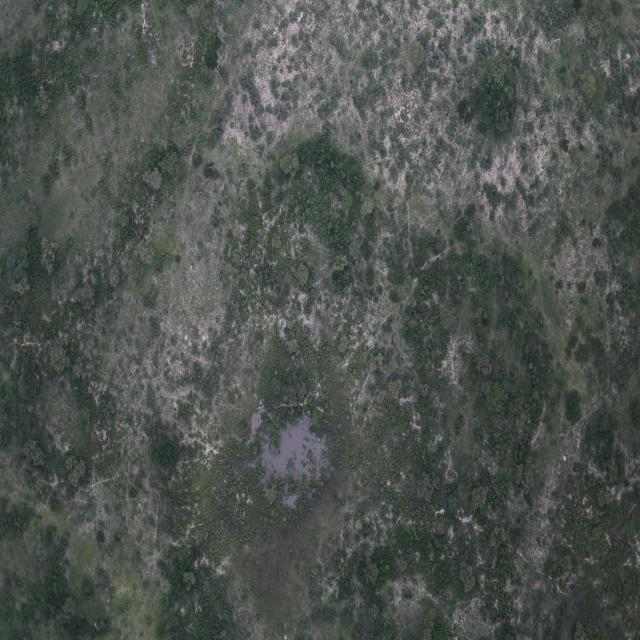elephant: (203, 195, 209, 201), (205, 177, 210, 184), (241, 160, 247, 164), (208, 165, 213, 169), (199, 190, 204, 194), (195, 183, 199, 186), (248, 152, 250, 158), (198, 188, 200, 191)
